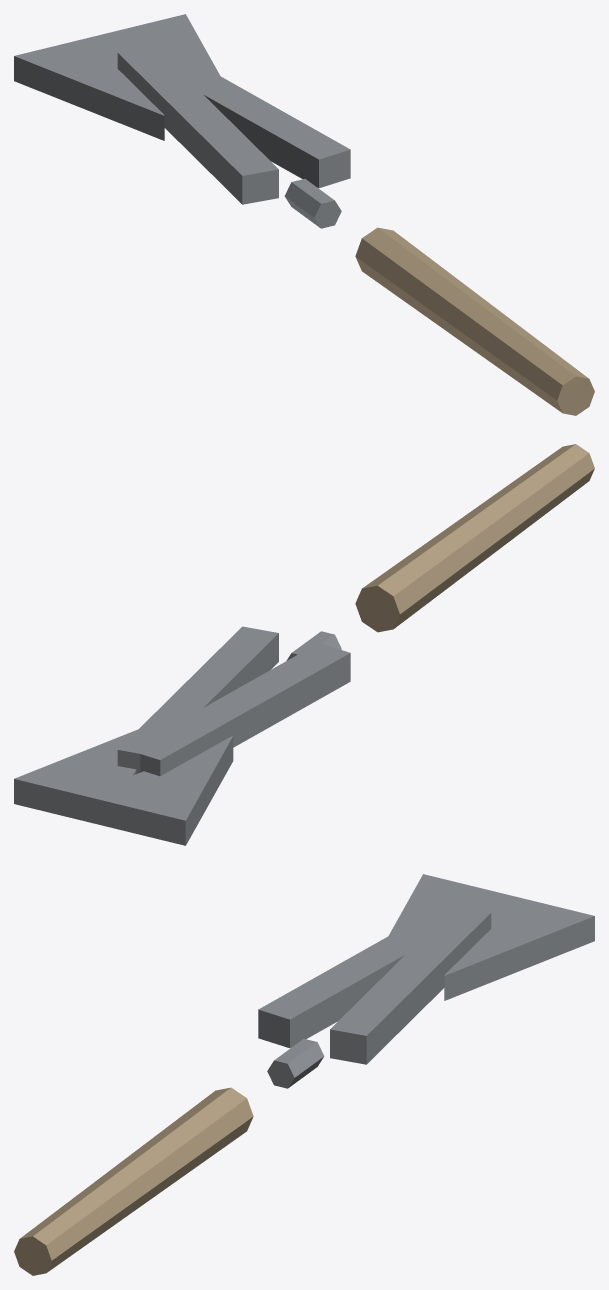
The model's file is trench-line-1917-wire-cutters-7f9f5a91__24113.glb.
3 views of the same model, one above another, from view 1: azimuth 30°, elevation 25°; view 2: azimuth 150°, elevation 25°; view 3: azimuth 330°, elevation 25° (orthographic).
Parts seen in each view (by area): view 1: wire-cutters; view 2: wire-cutters; view 3: wire-cutters.
Part boxes in pixels (x1,y1,x2,y2): wire-cutters: [14, 14, 594, 415]; wire-cutters: [14, 444, 594, 845]; wire-cutters: [14, 874, 594, 1275].
Size of the model in its own units: 0.1 by 0.029 by 0.48.
